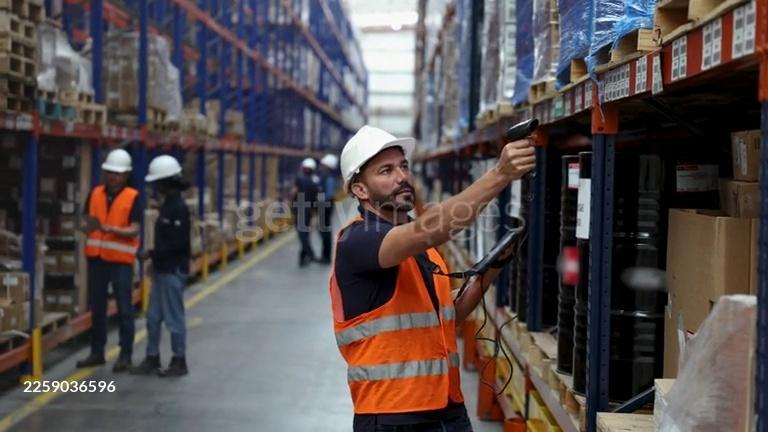helmet: (339, 126, 416, 189), (143, 156, 183, 182), (103, 149, 133, 173), (320, 153, 337, 168), (302, 158, 318, 172)
person: (330, 127, 539, 432), (73, 148, 140, 373), (141, 155, 200, 378), (291, 156, 329, 265), (319, 154, 353, 266)
